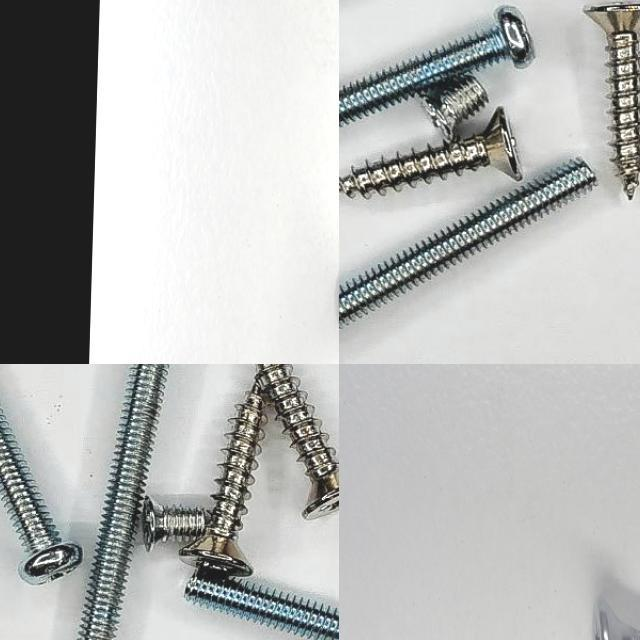Screw: (339, 159, 597, 331), (77, 364, 168, 640), (339, 7, 535, 128), (180, 376, 267, 576), (339, 109, 523, 198), (0, 407, 82, 585), (254, 364, 339, 519), (585, 3, 640, 201), (186, 572, 339, 640), (426, 76, 489, 141), (143, 496, 210, 551)
